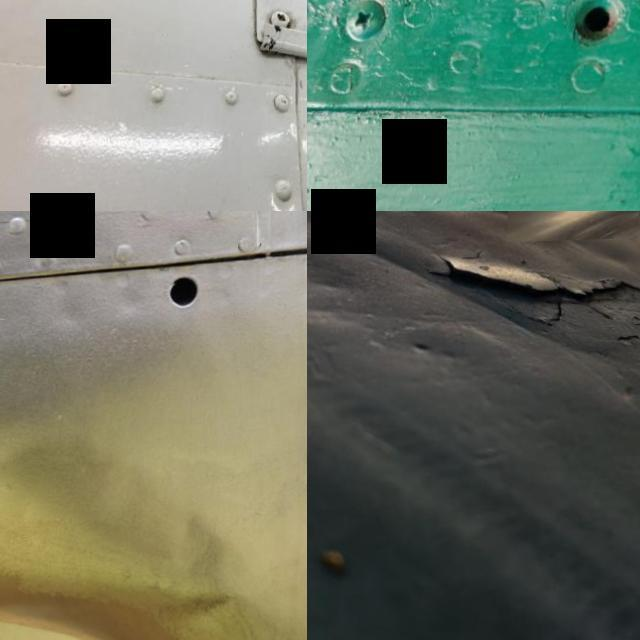Crack: (418, 243, 640, 348), (249, 10, 307, 76)
Dent: (508, 211, 640, 243)
Missing_Fastener: (539, 0, 640, 80), (143, 248, 227, 336)
